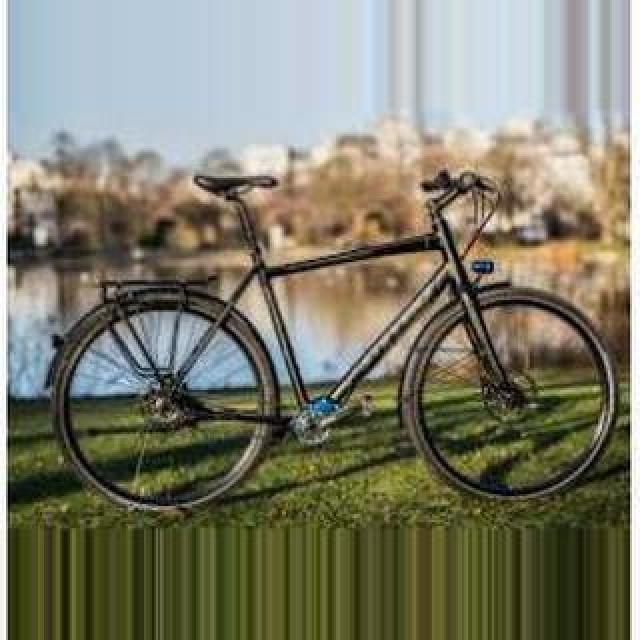Person: (54, 160, 616, 516)
